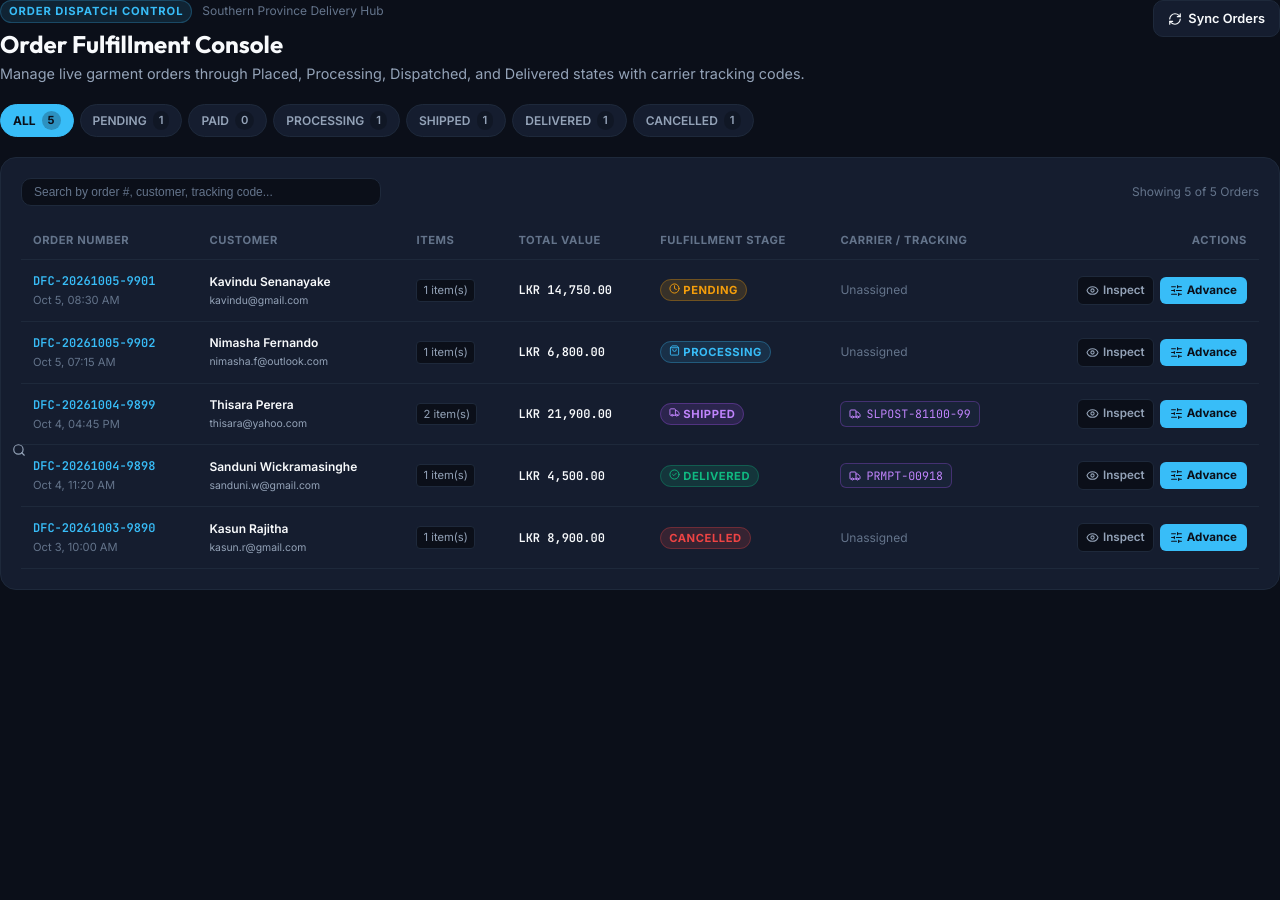
Test: STORM-FE-019: Admin Order Fulfillment Console & 30-Day Return Approvals › AC2: Status Transition Modal & Delivered Timestamp Logging › opens OrderInspectorDrawer when Inspect button is clicked
Click the button with test id "inspect-order-btn-1": [1115, 290] box [1077, 276, 1154, 305]
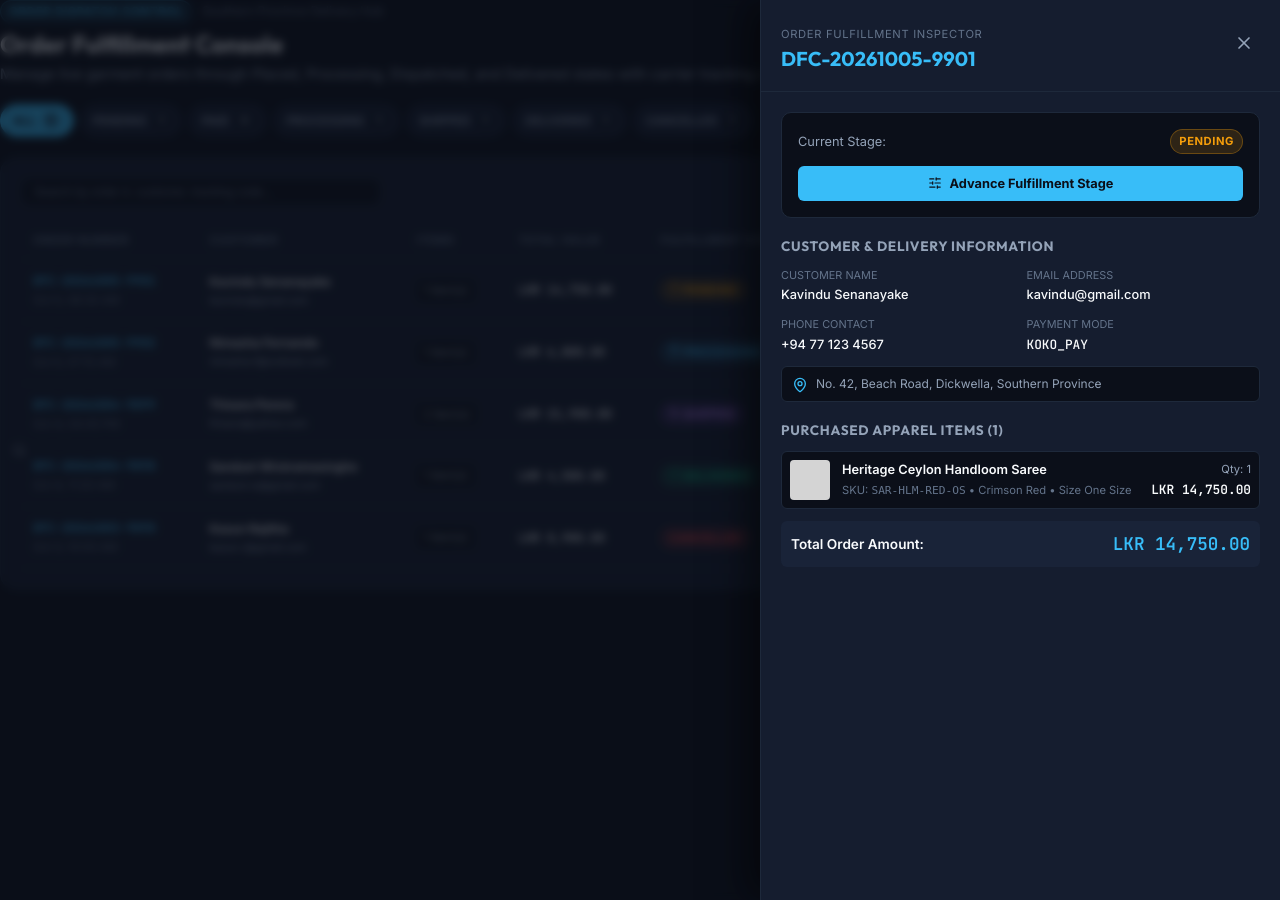
Expected: the element with test id "order-inspector-drawer" is shown
Expected: the text with test id "drawer-customer-name" reads "Kavindu Senanayake", [781, 287, 909, 302]
Expected: the text with test id "drawer-order-total" reads "LKR 14,750.00", [1113, 532, 1250, 555]
